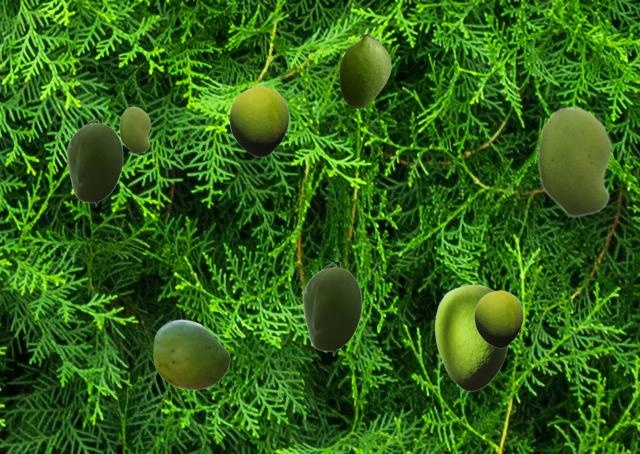green_mango: (537, 106, 611, 217), (434, 284, 510, 390), (302, 262, 361, 355), (153, 319, 229, 389), (66, 118, 122, 206), (229, 86, 288, 156), (339, 32, 390, 107), (474, 290, 522, 347), (119, 106, 150, 153)
